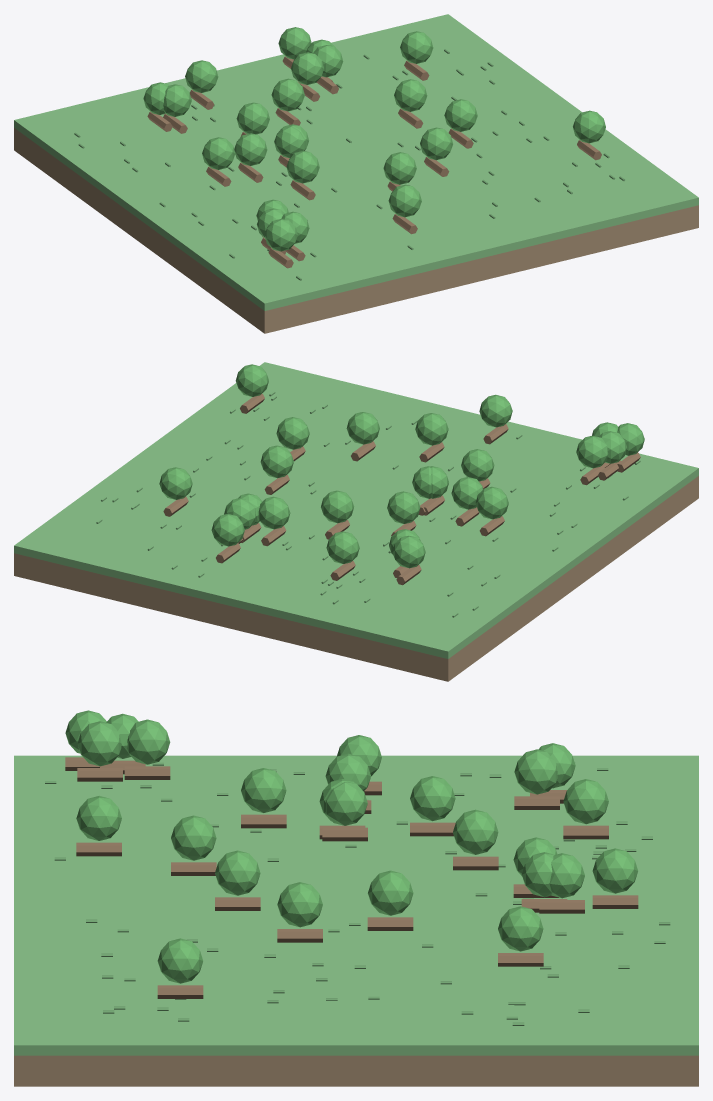
File: indie_terrain.glb
3 views of the same model, one above another, from view 1: azimuth 30°, elevation 25°; view 2: azimuth 150°, elevation 25°; view 3: azimuth 270°, elevation 25° (orthographic). The views are drawn at different scales.
Parts seen in each view (by area): view 1: Grass, world, Ground; view 2: Grass, world, Ground; view 3: Grass, world, Ground.
Part boxes in pixels (x1,y1,x2,y2): Grass: [14, 14, 698, 310]; world: [74, 27, 624, 280]; Ground: [14, 128, 698, 333]; Grass: [14, 362, 698, 658]; world: [96, 364, 644, 617]; Ground: [14, 476, 698, 681]; Grass: [14, 755, 698, 1055]; world: [45, 710, 670, 1025]; Ground: [14, 1055, 698, 1086].
Size of the model in its own units: 120 by 22 by 120.
